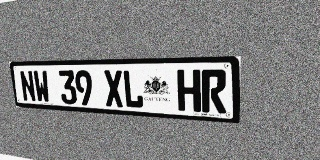3: (58, 70, 77, 105)
9: (74, 70, 94, 106)
H: (177, 70, 201, 112)
L: (122, 70, 144, 109)
N: (19, 70, 37, 102)
R: (201, 69, 227, 114)
W: (33, 70, 51, 103)
X: (103, 70, 124, 107)
